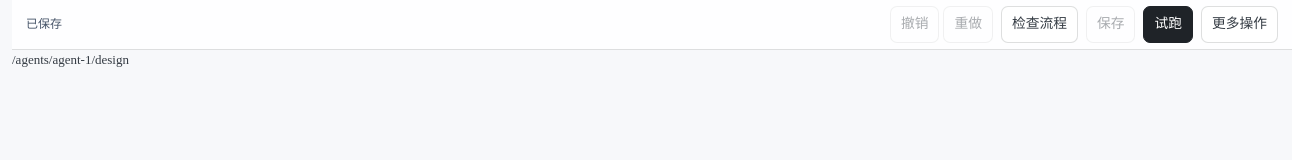
Test case: Builder Run commands › opens Run directly for a clean valid immutable revision
Click the button "试跑" at (1168, 24), box [1144,6,1193,43]
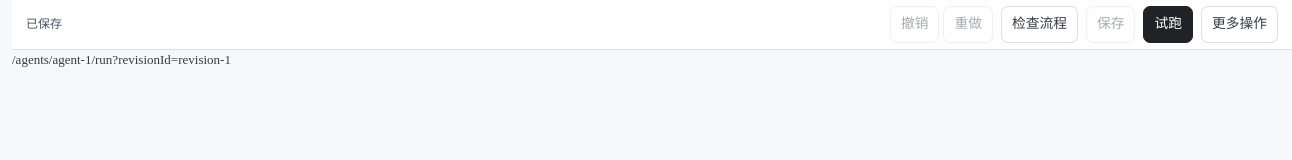
Expected: the text named "location" reads "/agents/agent-1/run?revisionId=revision-1", [12,52,231,67]
